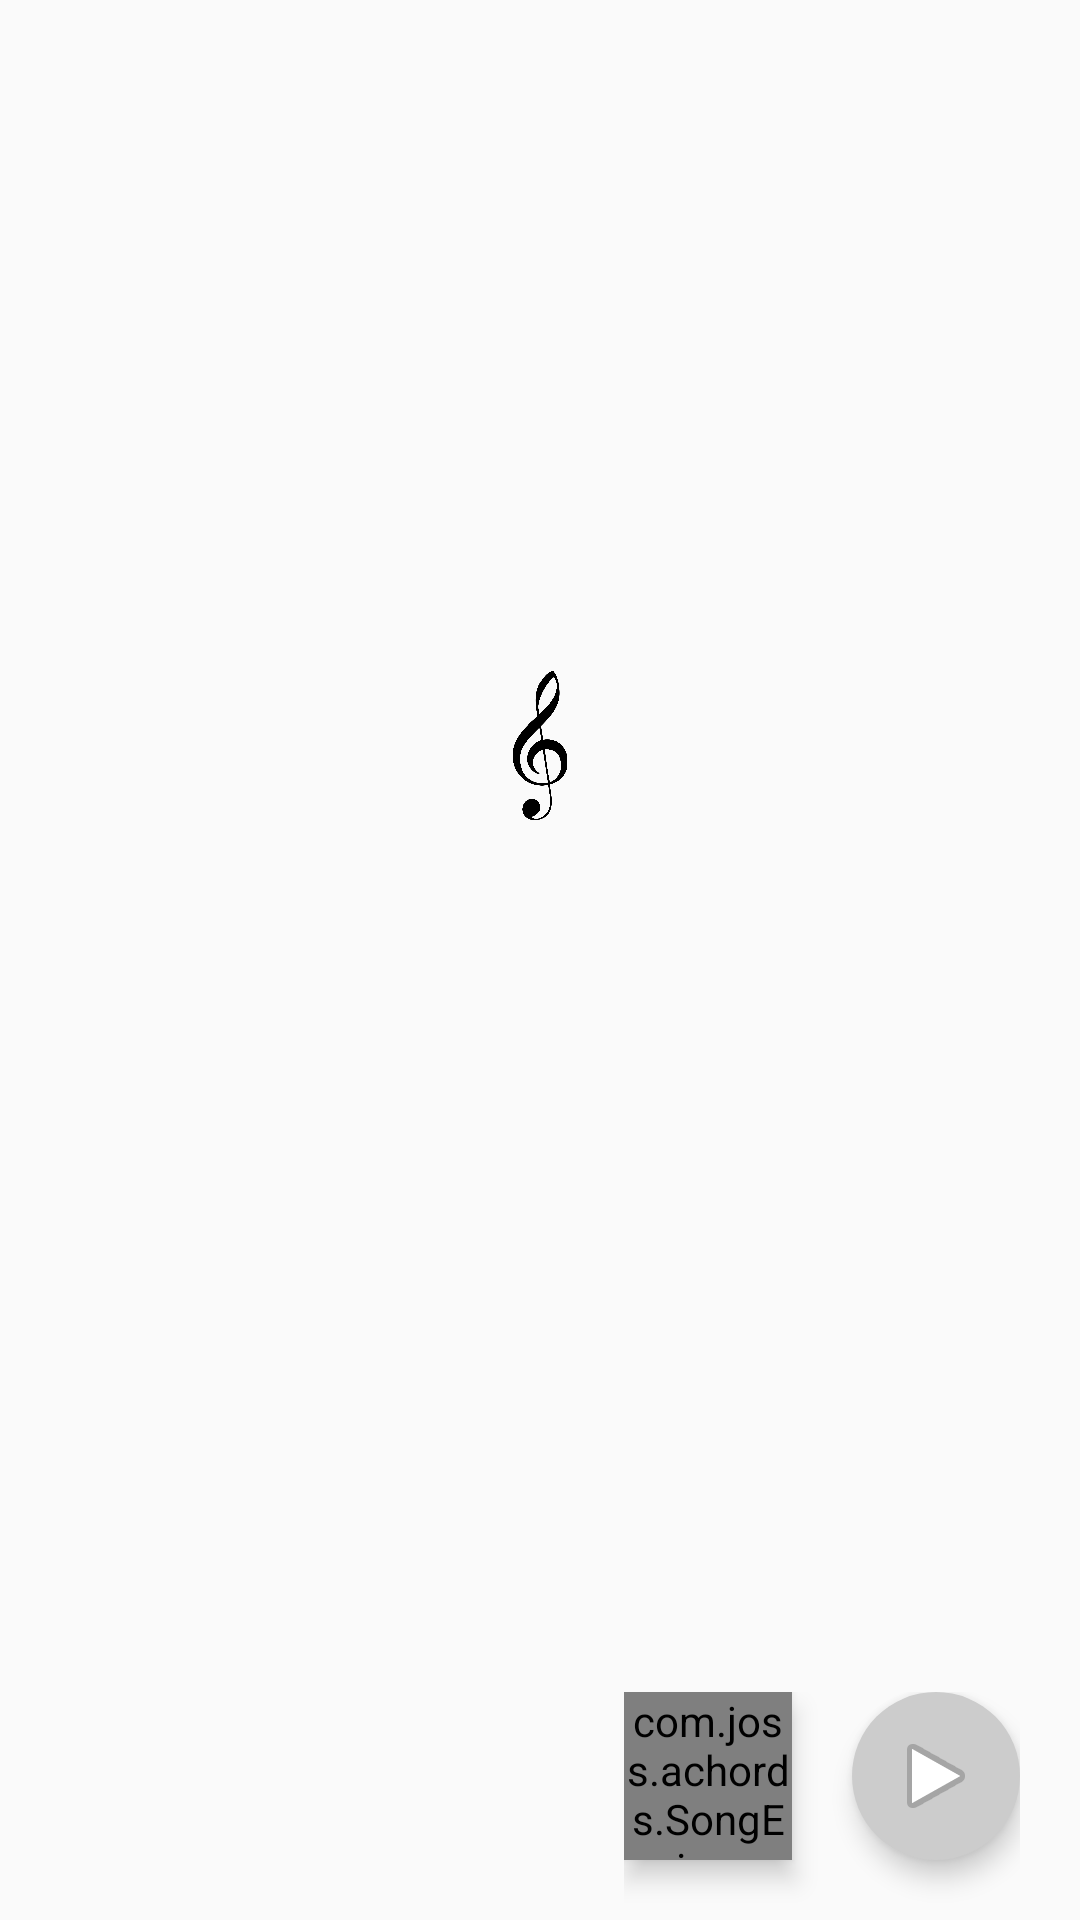

Icons on this 1080 x 1920 Android screen, each with the point to tap as (x=x, y=y):
gkey: (x=540, y=745)
play: (x=936, y=1776)
